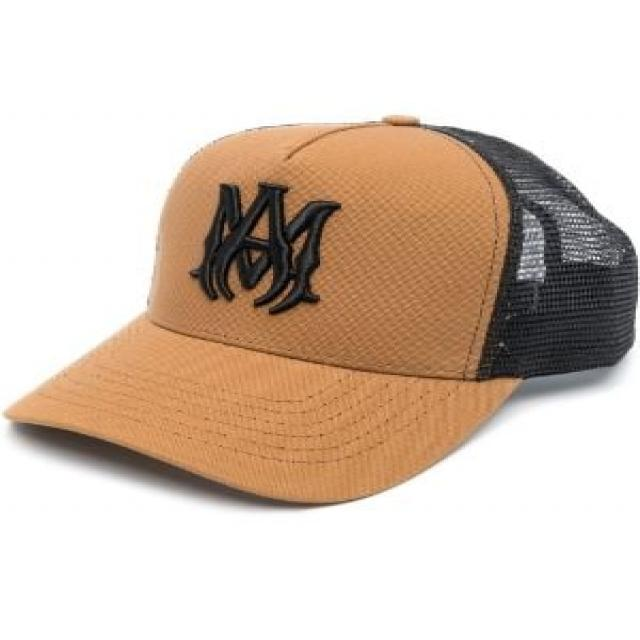suspicious-objects: (6, 117, 638, 504)
